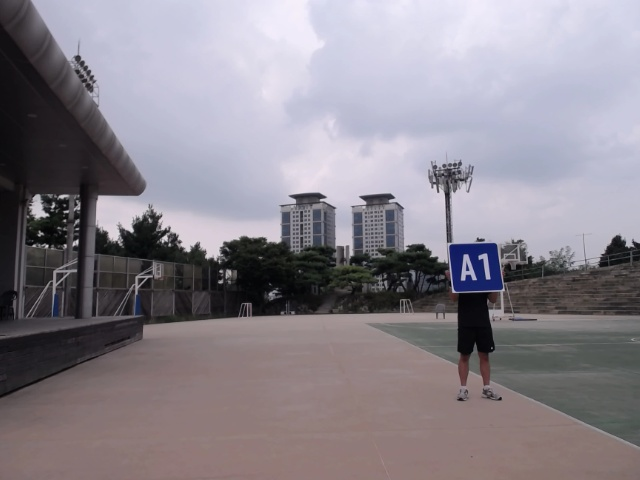delivery_a1: (449, 243, 504, 292)
